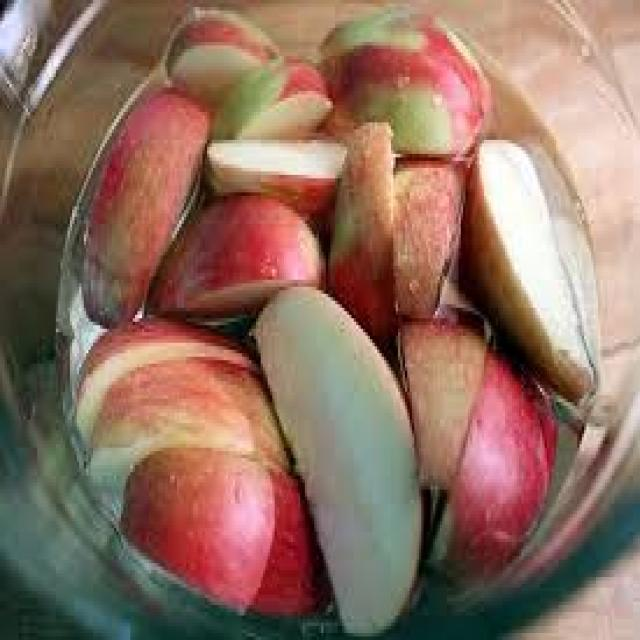Apple: (252, 281, 423, 632), (473, 132, 594, 395), (80, 92, 196, 315), (435, 360, 554, 570), (323, 18, 486, 159), (162, 210, 315, 309), (204, 129, 351, 202), (399, 159, 467, 316), (346, 117, 396, 291), (210, 52, 330, 121)
